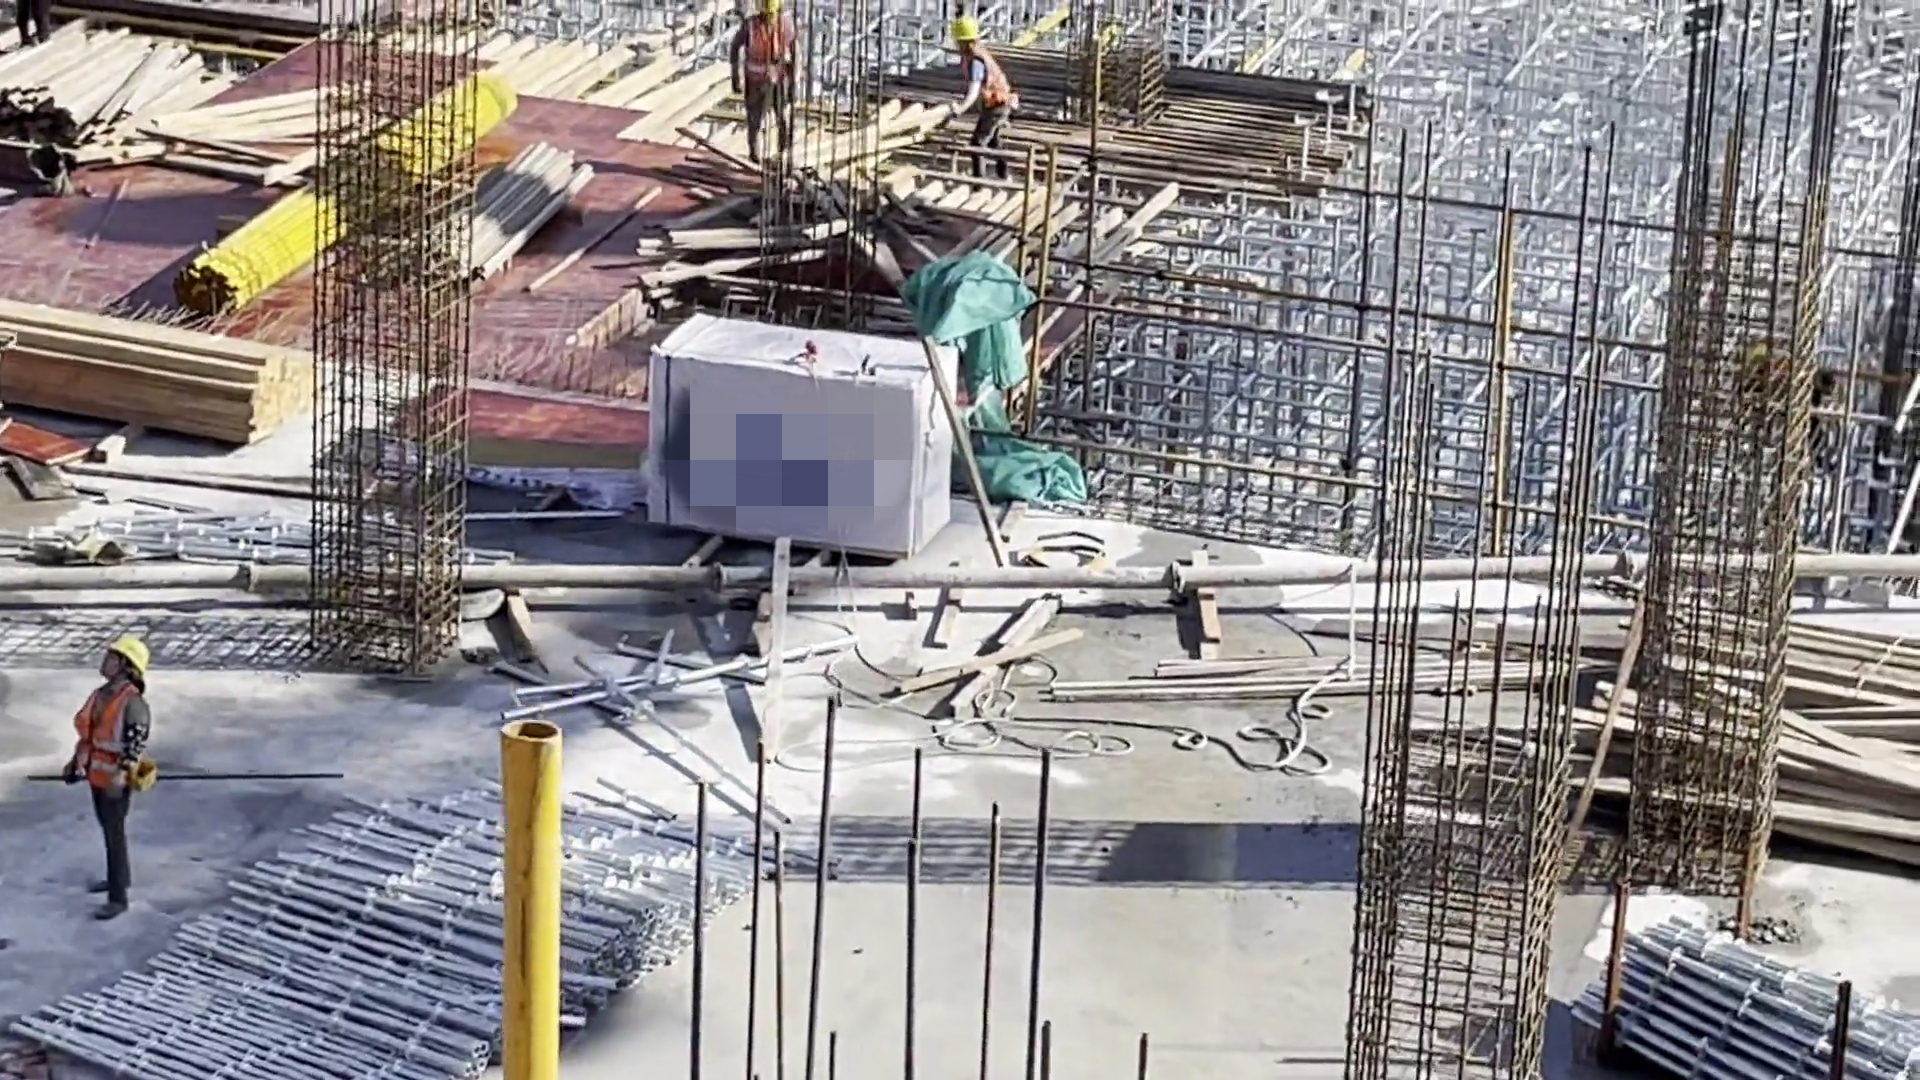helmet: (109, 638, 148, 676), (952, 15, 981, 41), (756, 1, 780, 10)
person: (67, 634, 158, 918), (732, 1, 800, 170), (951, 16, 1012, 177)
vest: (69, 685, 138, 792), (742, 14, 793, 84), (967, 47, 1006, 115)
